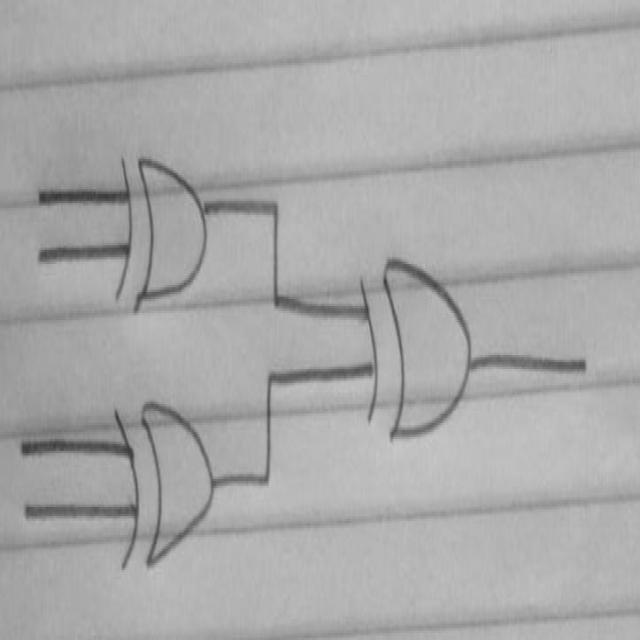XOR: (351, 235, 484, 473), (103, 365, 219, 582), (112, 133, 215, 326)
